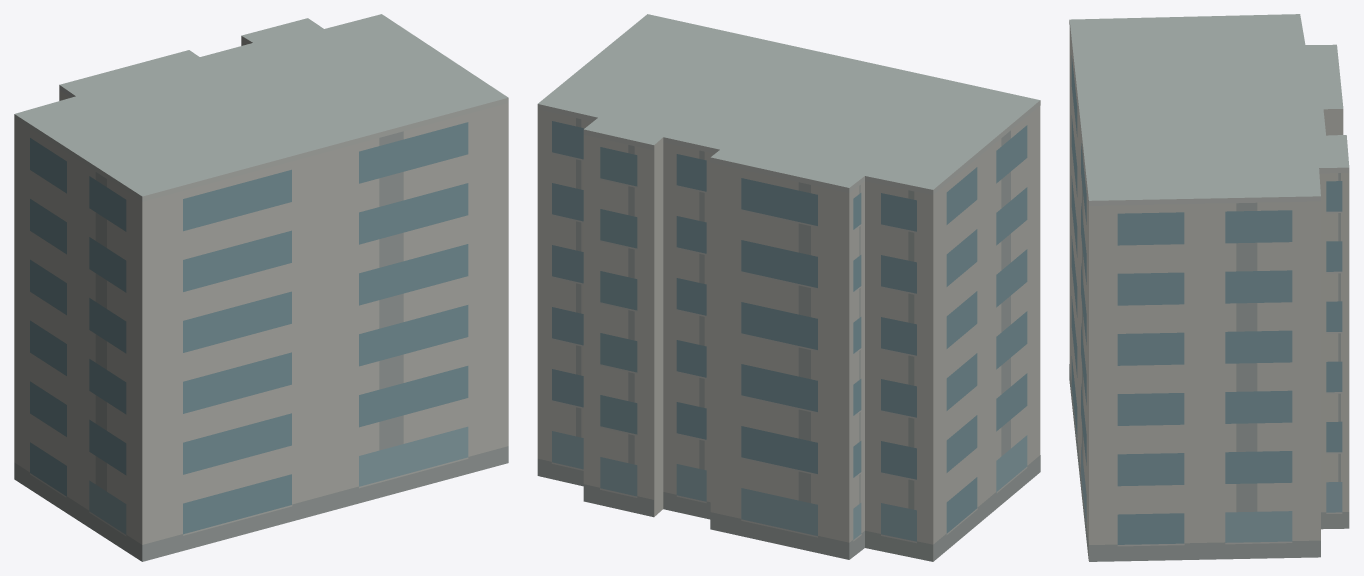
The model's file is survey-upis-32705680.glb.
The picture shows the model from 3 angles, left to right: view 1: azimuth 30°, elevation 25°; view 2: azimuth 150°, elevation 25°; view 3: azimuth 270°, elevation 25°; orthographic projection. The views are drawn at different scales.
Parts seen in each view (by area): view 1: survey-upis-32705680.tmp; view 2: survey-upis-32705680.tmp; view 3: survey-upis-32705680.tmp.
Part boxes in pixels (left/top/right/bottom): survey-upis-32705680.tmp: left=14, top=14, right=508, bottom=561; survey-upis-32705680.tmp: left=537, top=14, right=1040, bottom=561; survey-upis-32705680.tmp: left=1069, top=14, right=1349, bottom=561.
Size of the model in its own units: 18.65 by 16.8 by 11.81.
